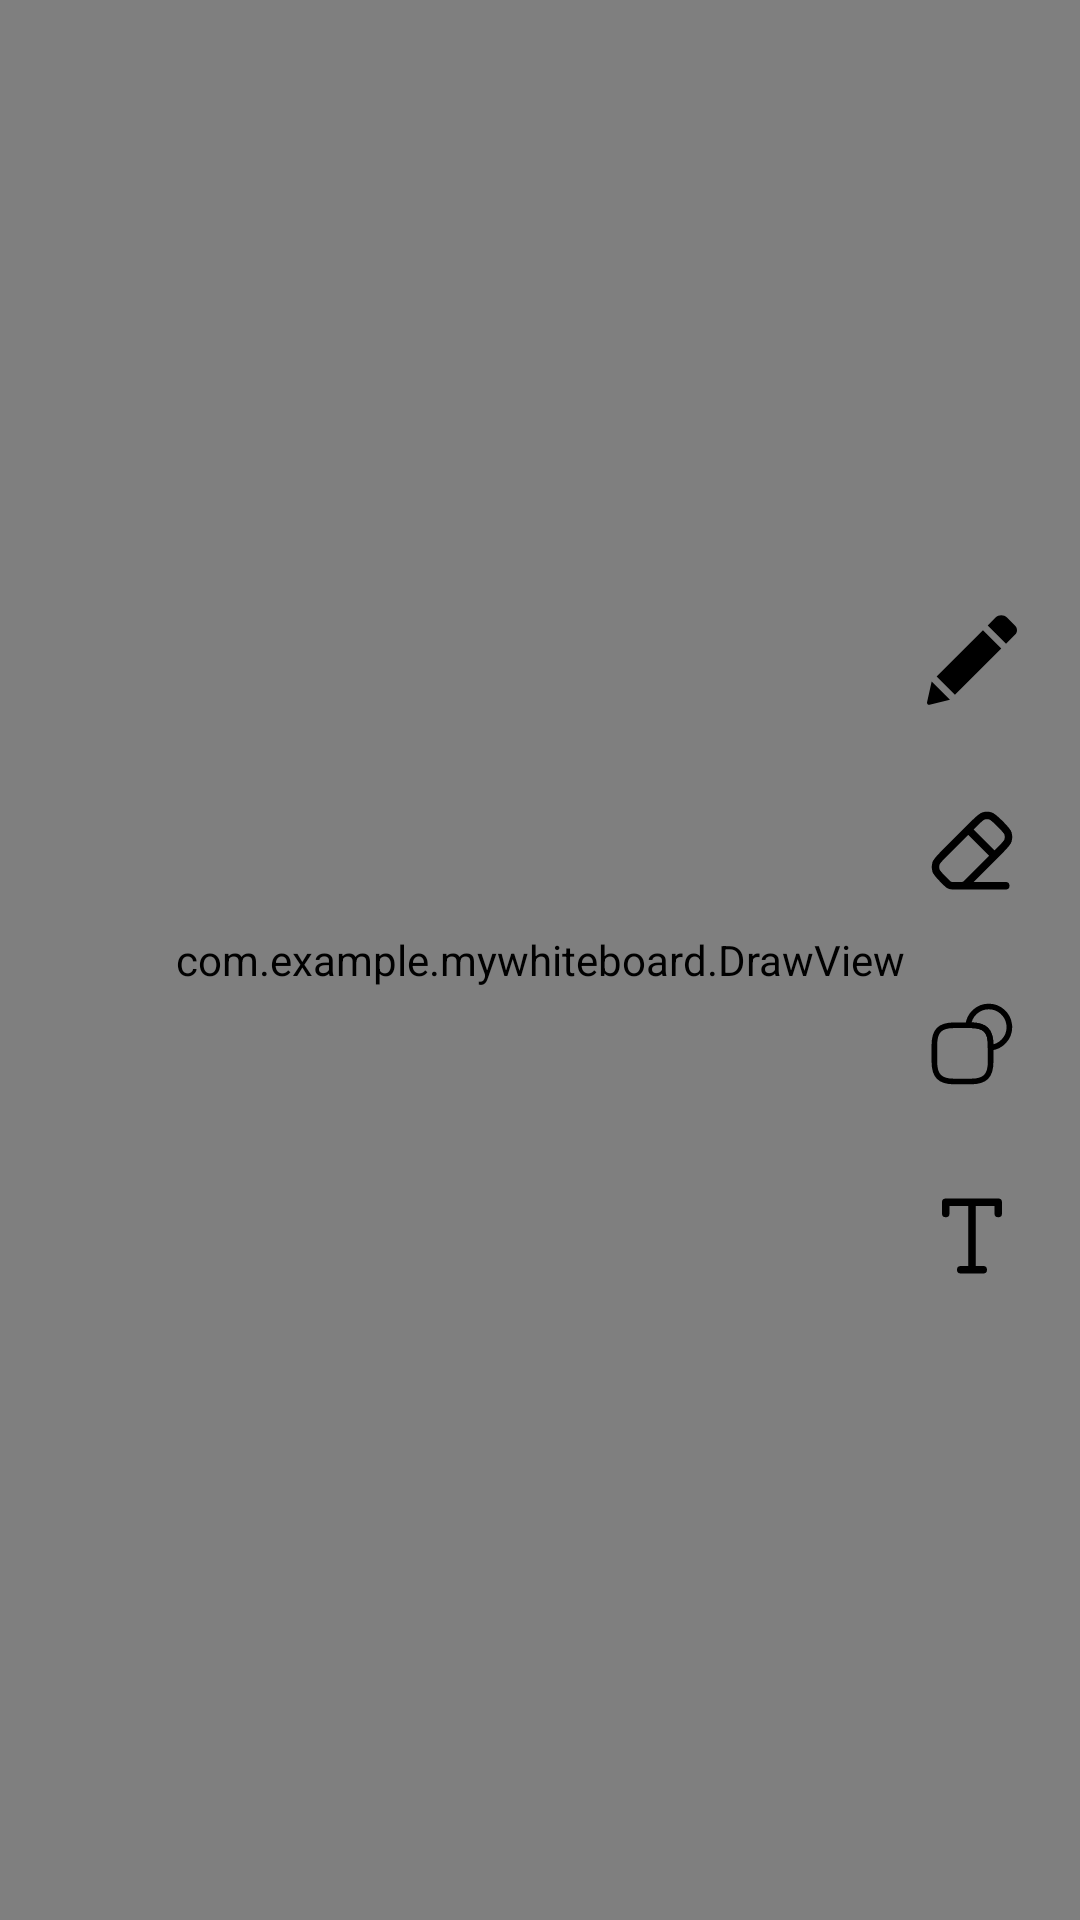

Icon click points for this 1080w x 1920h phone screenshot, format point (x, y):
eraser: point (972, 850)
pencil: point (972, 660)
shapes: point (972, 1044)
text: point (972, 1236)
